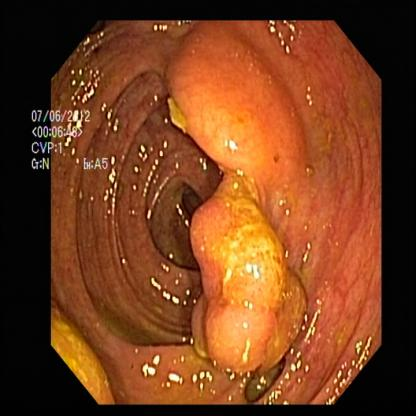Labels: (28, 95, 127, 181)
Polyps: (171, 44, 331, 190), (191, 189, 305, 361)
